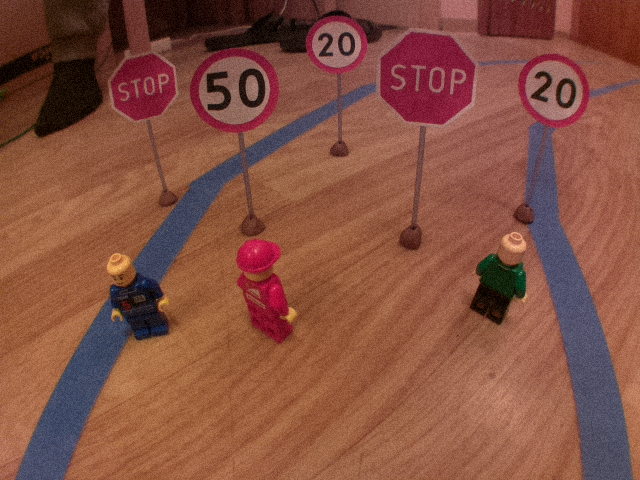LEGO_person: (229, 235, 306, 347), (463, 230, 533, 333), (102, 247, 172, 347)
ogr_20: (515, 50, 593, 132), (303, 13, 370, 76)
ogr_50: (187, 47, 284, 136)
stop: (373, 22, 482, 130), (105, 47, 182, 127)
